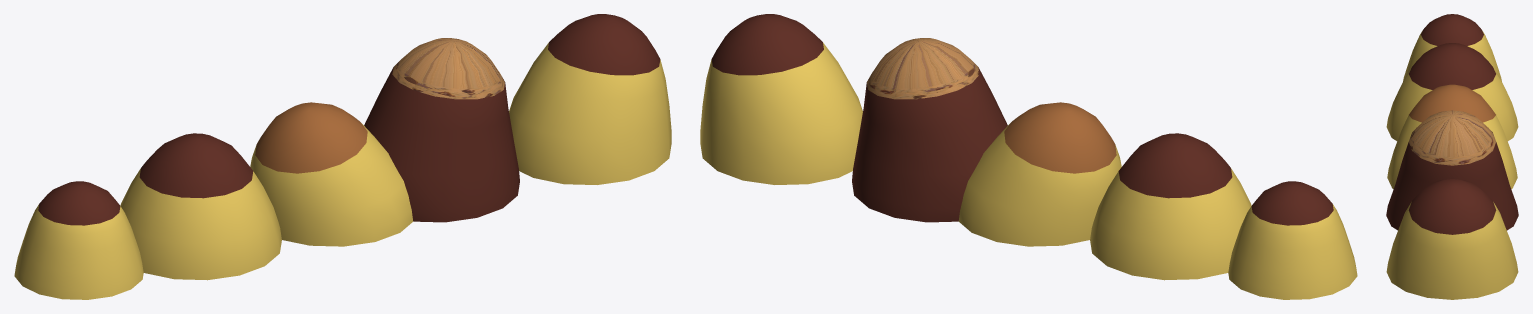
Rendered from candy montain.fbx.
3 views of the same model, side by side, from view 1: azimuth 30°, elevation 25°; view 2: azimuth 150°, elevation 25°; view 3: azimuth 270°, elevation 25° (orthographic). The views are drawn at different scales.
Parts seen in each view (by area): view 1: Cylinder.017, Cylinder.016, Cylinder.014, Cylinder.015, Cylinder.013; view 2: Cylinder.017, Cylinder.016, Cylinder.014, Cylinder.015, Cylinder.013; view 3: Cylinder.017, Cylinder.016, Cylinder.014, Cylinder.015, Cylinder.013.
Part boxes in pixels (x1,y1,x2,y2): Cylinder.017: (509, 14, 671, 184); Cylinder.016: (364, 38, 519, 222); Cylinder.014: (120, 133, 281, 280); Cylinder.015: (250, 102, 413, 246); Cylinder.013: (14, 181, 143, 299); Cylinder.017: (700, 14, 862, 184); Cylinder.016: (852, 38, 1007, 222); Cylinder.014: (1090, 133, 1251, 280); Cylinder.015: (958, 102, 1121, 246); Cylinder.013: (1228, 181, 1357, 299); Cylinder.017: (1386, 178, 1518, 299); Cylinder.016: (1386, 110, 1518, 230); Cylinder.014: (1386, 43, 1518, 140); Cylinder.015: (1387, 84, 1517, 188); Cylinder.013: (1403, 14, 1501, 81).
Size of the model in its own units: 32642 by 6865 by 7698.
